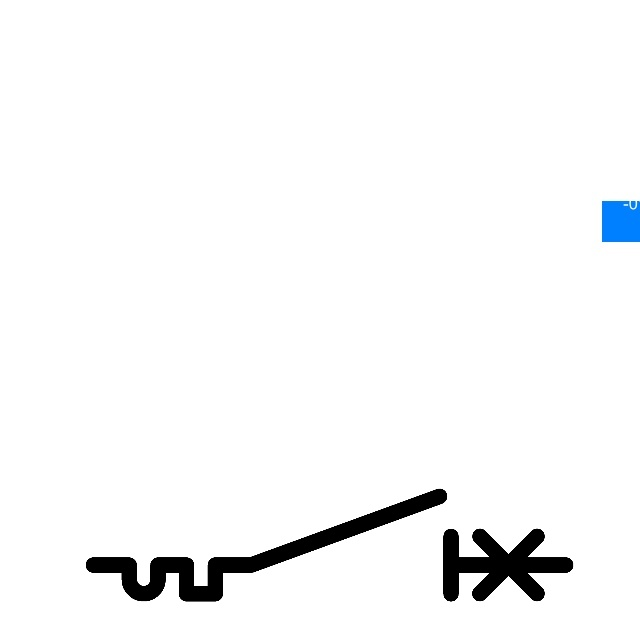interruptor_termomagnetico: (81, 484, 578, 606)
